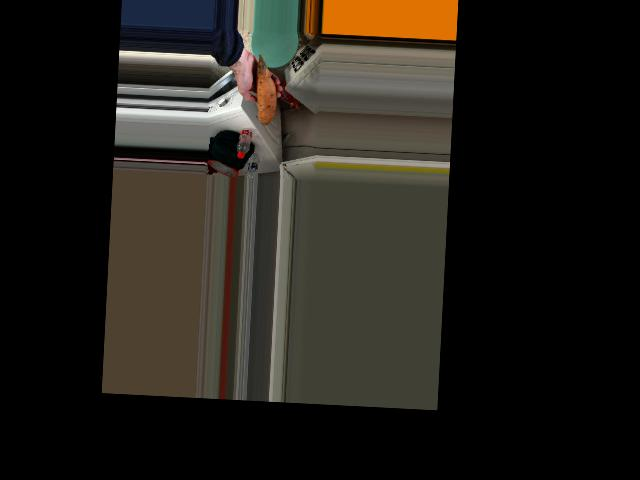sweet_potato: (254, 64, 280, 124)
